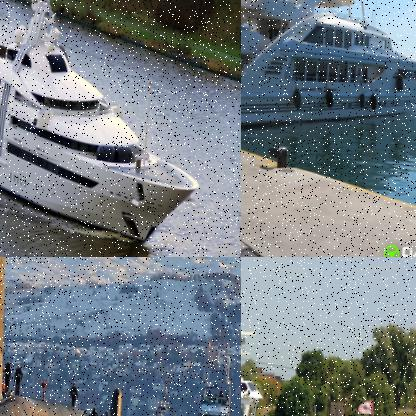Patrol Boat: (241, 317, 391, 415), (186, 327, 240, 415), (136, 377, 188, 415)
Submarine: (0, 257, 155, 415)
Yacht: (0, 0, 216, 248), (241, 0, 415, 149)
